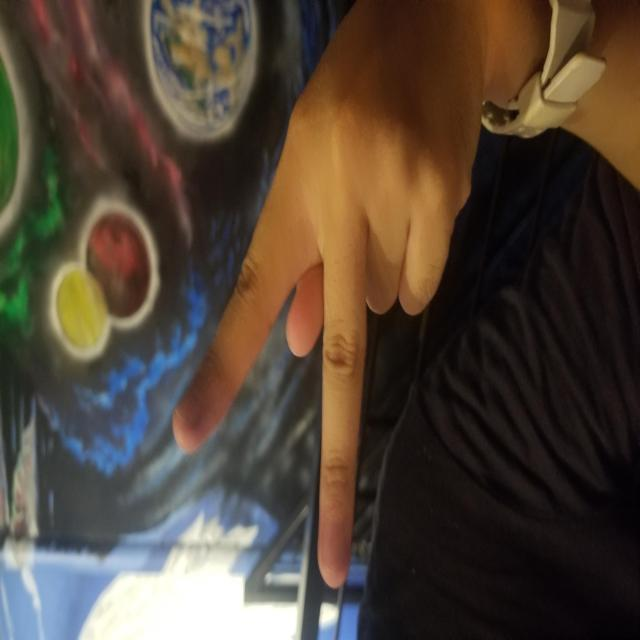K: (50, 168, 618, 482)
